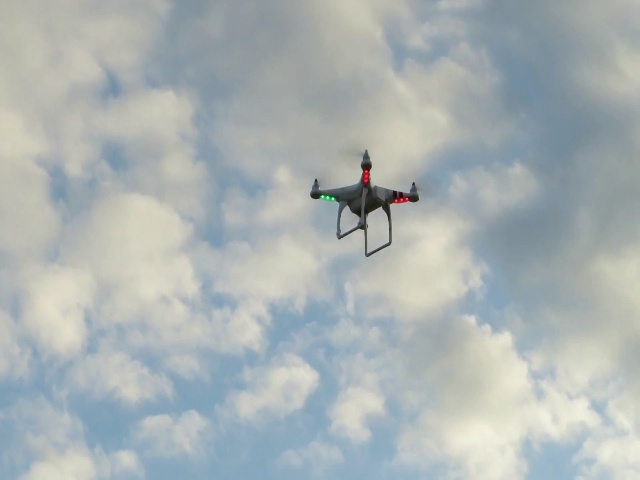drone: (300, 138, 430, 260)
